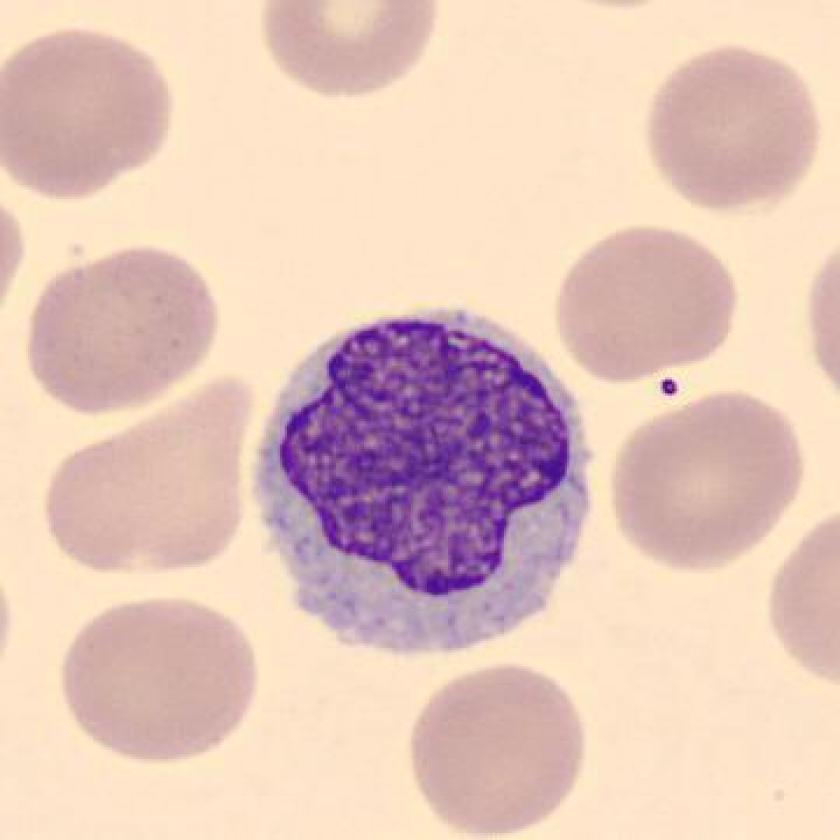monocyte: (232, 283, 612, 679)
